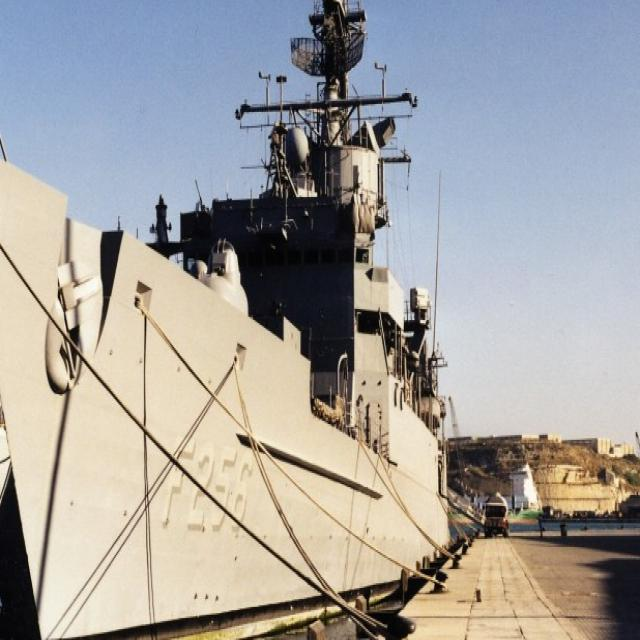Fragata: (1, 1, 470, 640)
